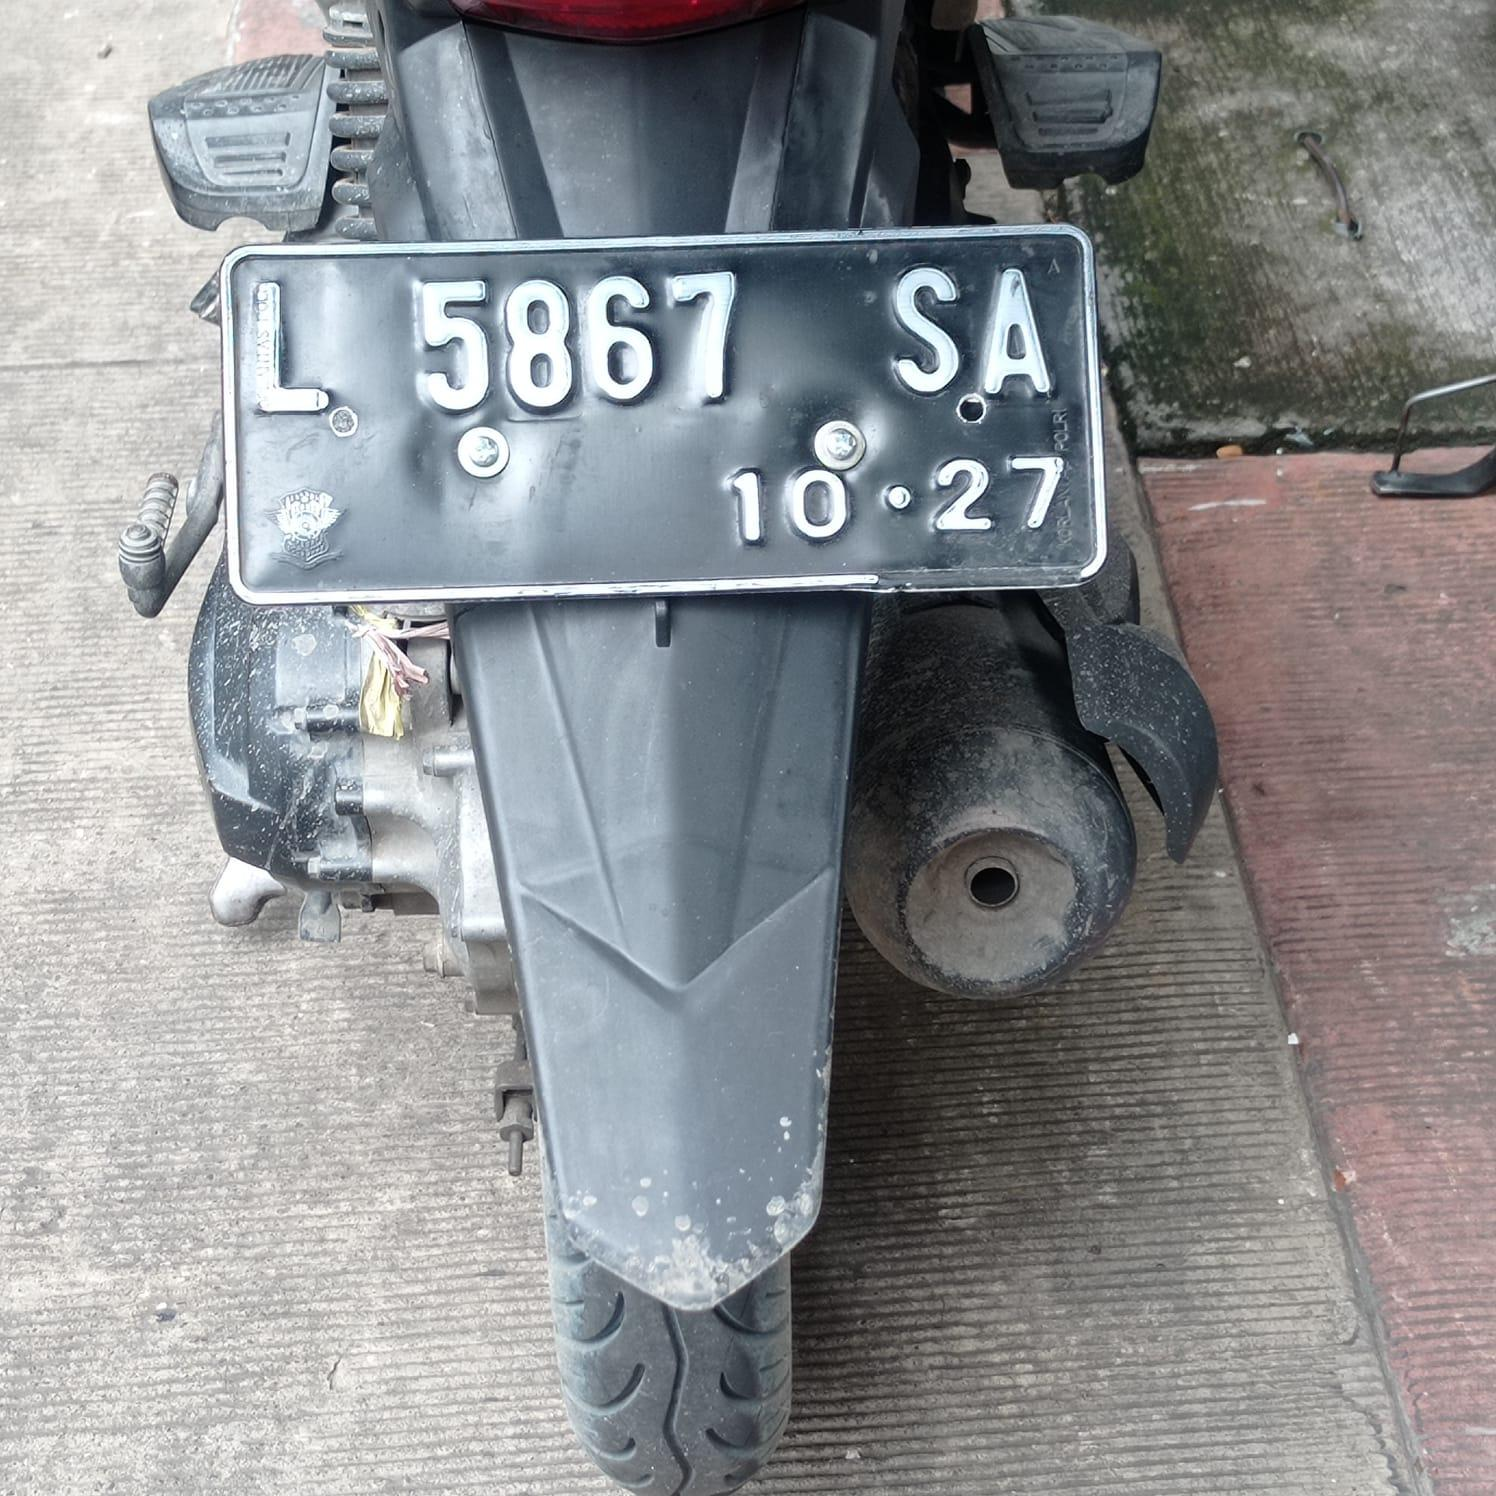plat: (219, 225, 1107, 604)
